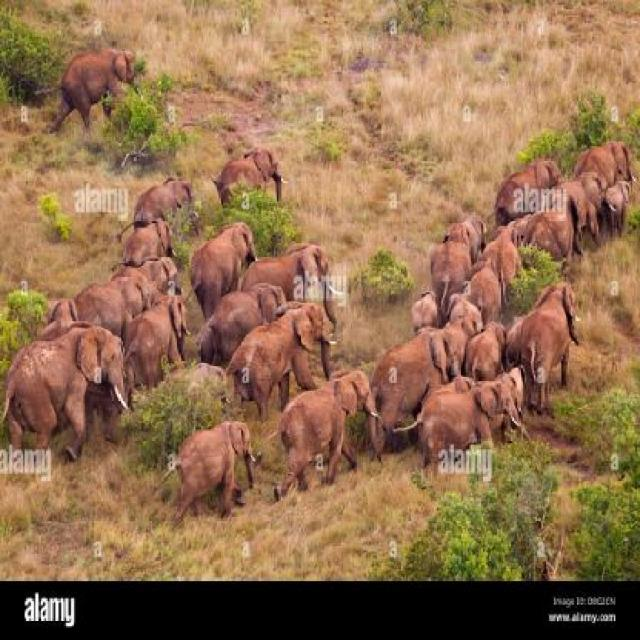elephant: (0, 319, 123, 455), (271, 358, 377, 490), (165, 403, 246, 529), (417, 378, 511, 484), (228, 304, 342, 388), (46, 31, 136, 134), (486, 174, 579, 266), (367, 321, 458, 412), (515, 278, 574, 405), (207, 292, 296, 370), (110, 172, 213, 232), (462, 217, 529, 309), (212, 135, 290, 207), (201, 214, 256, 314), (140, 288, 195, 384), (558, 172, 616, 252), (495, 150, 557, 219), (425, 220, 473, 308), (478, 362, 528, 446), (75, 260, 148, 317), (577, 118, 635, 188), (268, 238, 342, 292), (589, 166, 636, 246), (428, 308, 480, 380), (128, 248, 186, 308), (118, 207, 177, 262), (479, 319, 518, 395), (432, 368, 471, 438), (31, 286, 80, 332), (462, 202, 492, 276), (507, 314, 541, 378)
